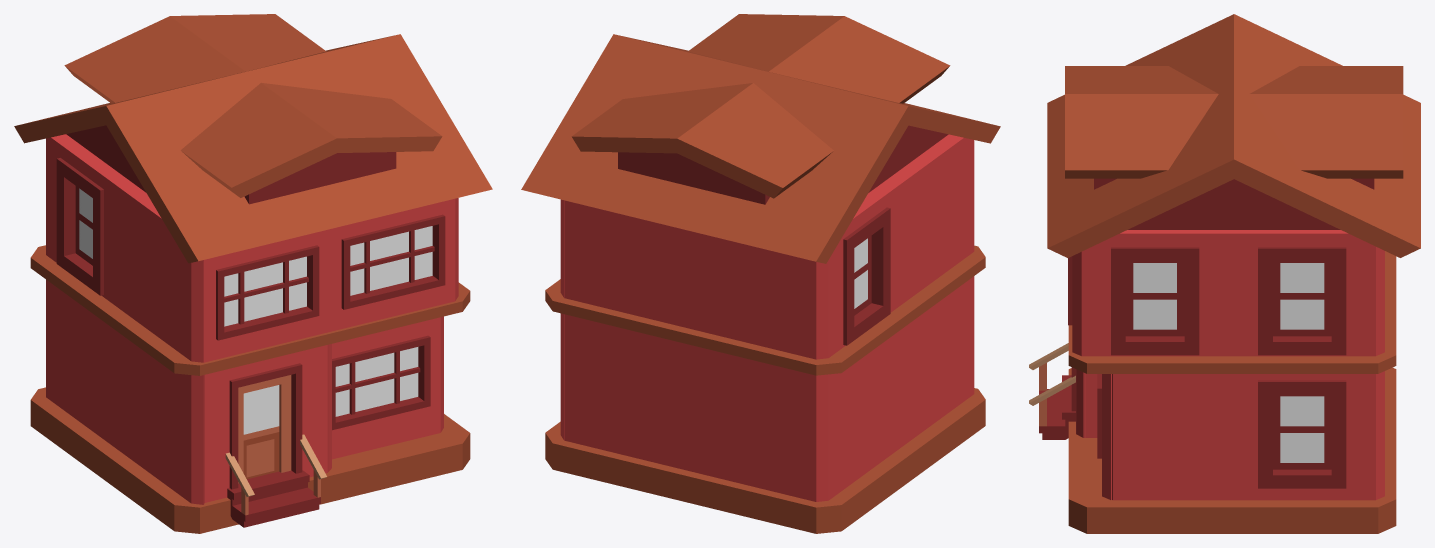
Rendered from Building_2.fbx.
3 renders of one model, left to right at view 1: azimuth 30°, elevation 25°; view 2: azimuth 150°, elevation 25°; view 3: azimuth 270°, elevation 25°, orthographic.
Visible parts, largest first — view 1: mergedBlocks; view 2: mergedBlocks; view 3: mergedBlocks.
Boxes of the visible parts, x1,y1,x2,y2 form: mergedBlocks: [14, 14, 492, 533]; mergedBlocks: [521, 14, 1000, 533]; mergedBlocks: [1029, 14, 1420, 533].
Size of the model in its own units: 23.76 by 28.2 by 26.64.
